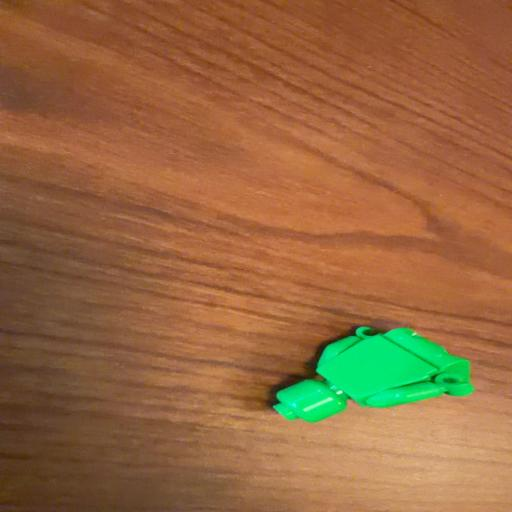UnoQ-minifig-detector: (274, 327, 474, 422)
